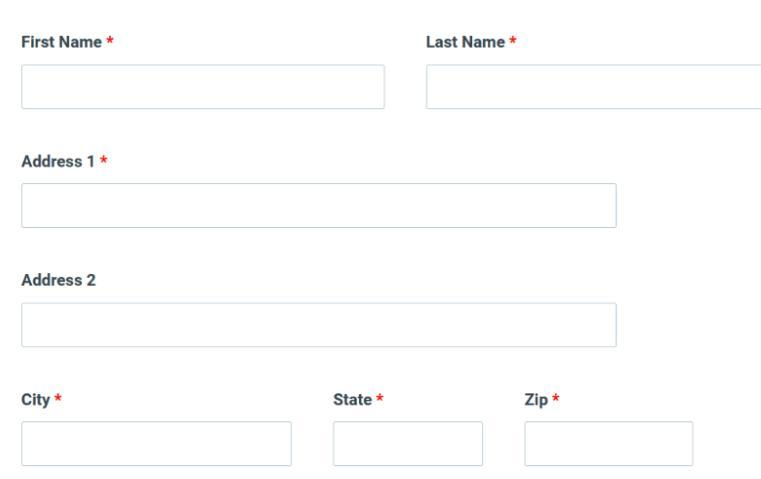input: (22, 303, 618, 349), (23, 184, 617, 229), (21, 64, 387, 111), (428, 65, 761, 111), (20, 422, 292, 468), (526, 422, 697, 468), (334, 423, 484, 467)
label: (422, 32, 522, 51), (21, 32, 116, 50), (20, 273, 103, 292), (20, 154, 111, 171), (331, 391, 390, 410), (21, 391, 66, 411), (523, 390, 564, 411)
